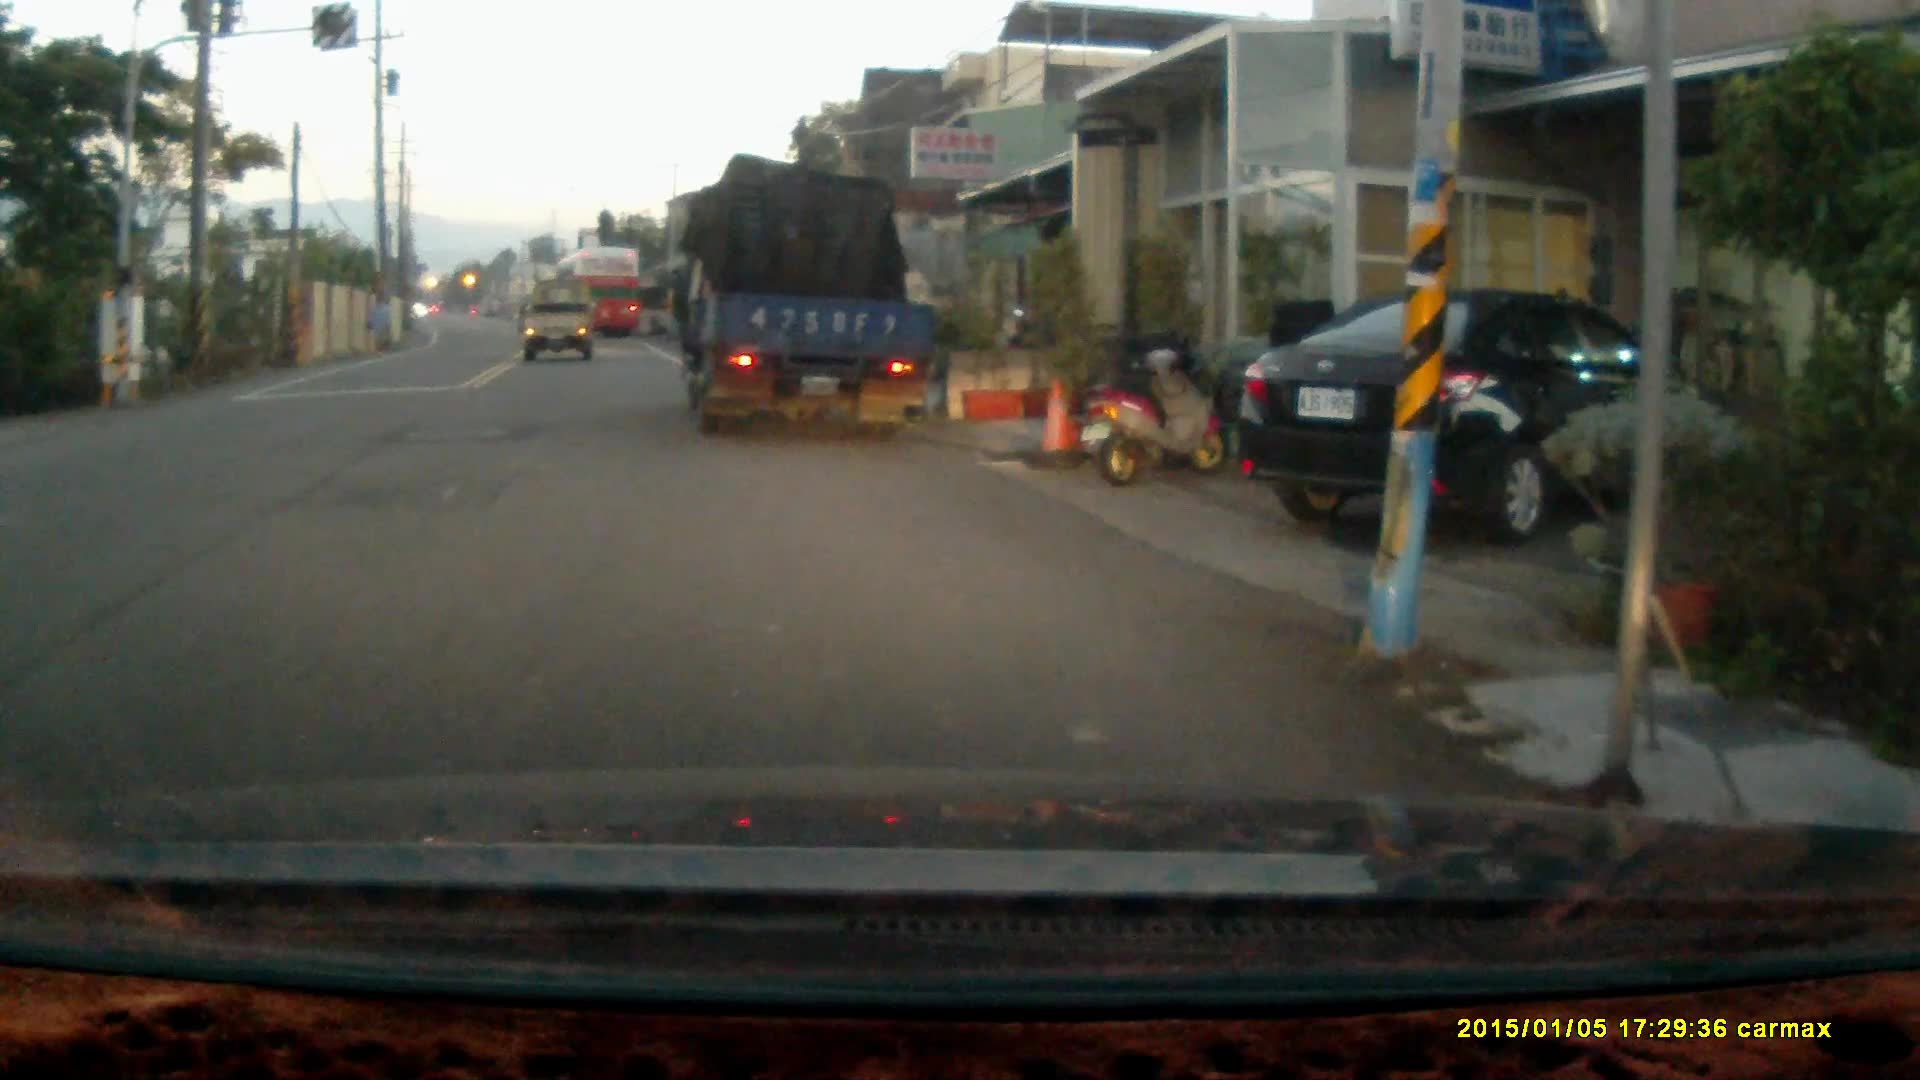vehicle: (1232, 284, 1716, 541), (671, 164, 945, 433), (551, 245, 649, 343), (522, 291, 596, 368)
